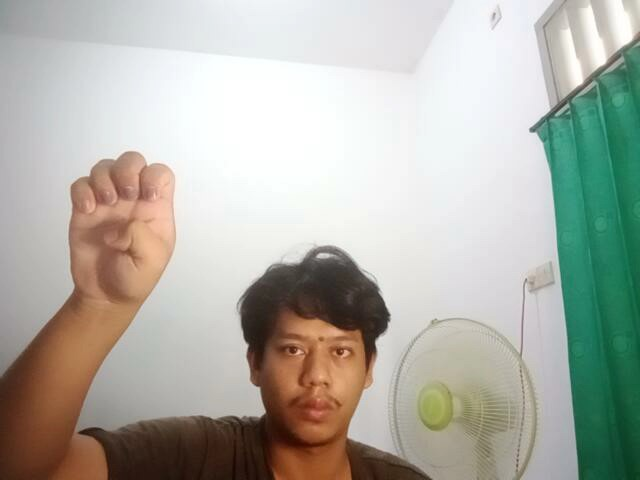E: (56, 141, 202, 315)
